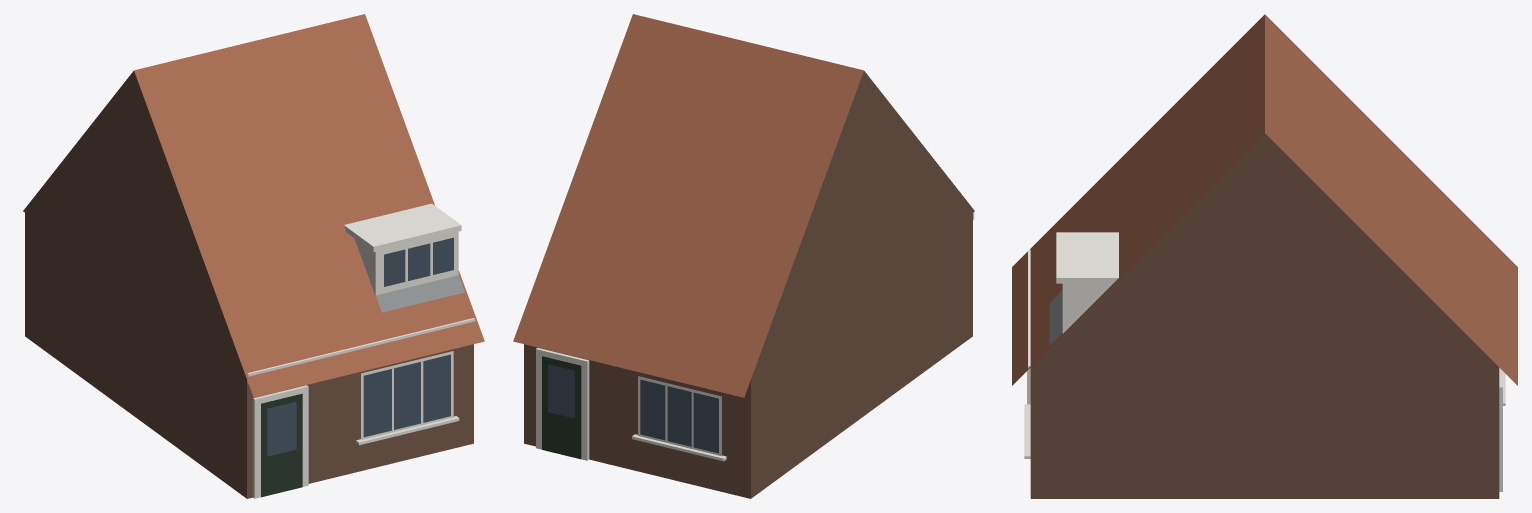
Rendered from nd-to-cottage__green-door__2__gable__long__solid__f0d1.glb.
The picture shows the model from 3 angles, left to right: view 1: azimuth 30°, elevation 25°; view 2: azimuth 150°, elevation 25°; view 3: azimuth 270°, elevation 25°; orthographic projection. The views are drawn at different scales.
Visible parts, largest first — view 1: nd-to-cottage__green-door__2__gable__long__solid__f0d1; view 2: nd-to-cottage__green-door__2__gable__long__solid__f0d1; view 3: nd-to-cottage__green-door__2__gable__long__solid__f0d1.
Boxes of the visible parts, x1,y1,x2,y2 form: nd-to-cottage__green-door__2__gable__long__solid__f0d1: (23, 14, 484, 498); nd-to-cottage__green-door__2__gable__long__solid__f0d1: (513, 14, 974, 498); nd-to-cottage__green-door__2__gable__long__solid__f0d1: (1012, 14, 1517, 498).
Bounding box in the file's own units: 5.29 × 7.61 × 9.5.
